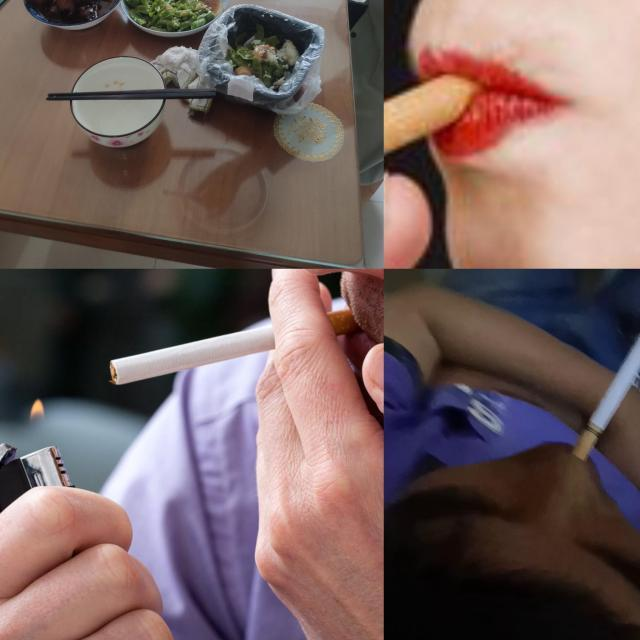smoking: (110, 306, 369, 386), (384, 70, 488, 268), (576, 333, 640, 462)
